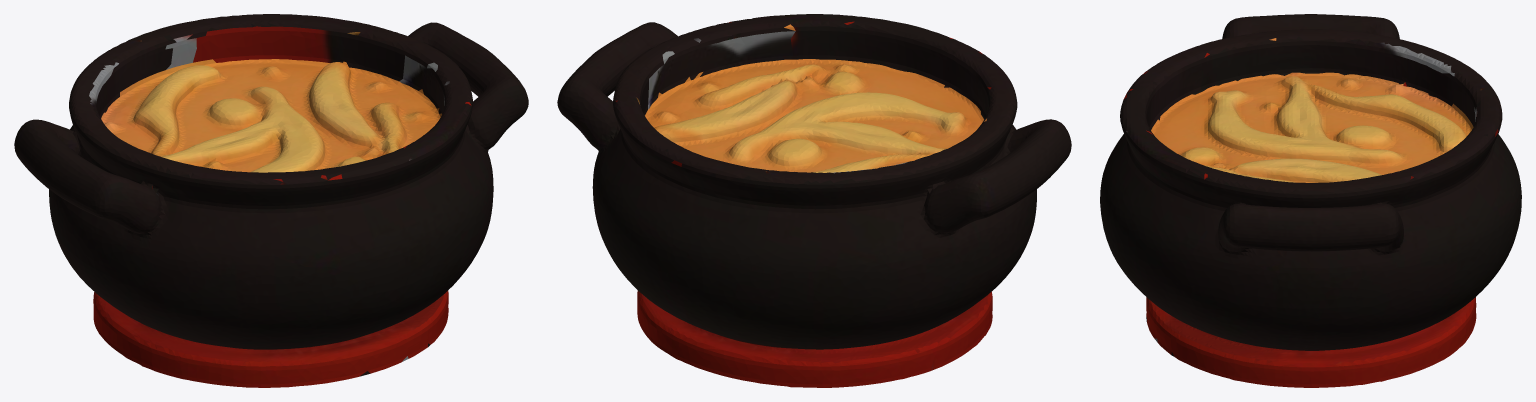
Rendered from garak_st_broth.glb.
3 views of the same model, side by side, from view 1: azimuth 30°, elevation 25°; view 2: azimuth 150°, elevation 25°; view 3: azimuth 270°, elevation 25° (orthographic). The views are drawn at different scales.
Visible parts, largest first — view 1: garak_st_broth.obj; view 2: garak_st_broth.obj; view 3: garak_st_broth.obj.
Boxes of the visible parts, x1=… form: garak_st_broth.obj: x1=14, y1=14, x2=528, y2=387; garak_st_broth.obj: x1=557, y1=14, x2=1071, y2=387; garak_st_broth.obj: x1=1100, y1=14, x2=1521, y2=387.
Bounding box in the file's own units: 0.7051 × 0.3268 × 0.6006.
1 material, 1 textured.
